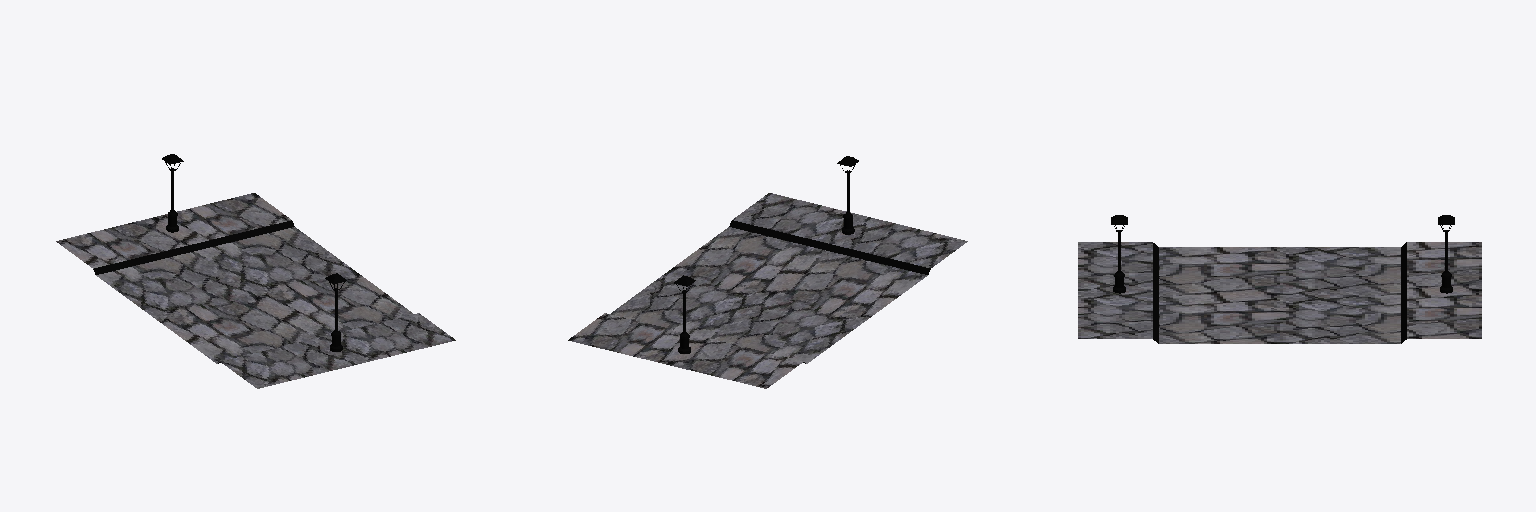
The picture shows the model from 3 angles: view 1: azimuth 30°, elevation 25°; view 2: azimuth 150°, elevation 25°; view 3: azimuth 270°, elevation 25°; orthographic projection.
Visible parts, largest first — view 1: ground; view 2: ground; view 3: ground.
Part boxes in pixels (x1,y1,x2,y2): ground: (56, 193, 455, 388); ground: (568, 193, 967, 388); ground: (1078, 242, 1481, 343).
Size of the model in its own units: 8.54 by 3.23 by 15.
Materials: 2 (1 with a texture image).